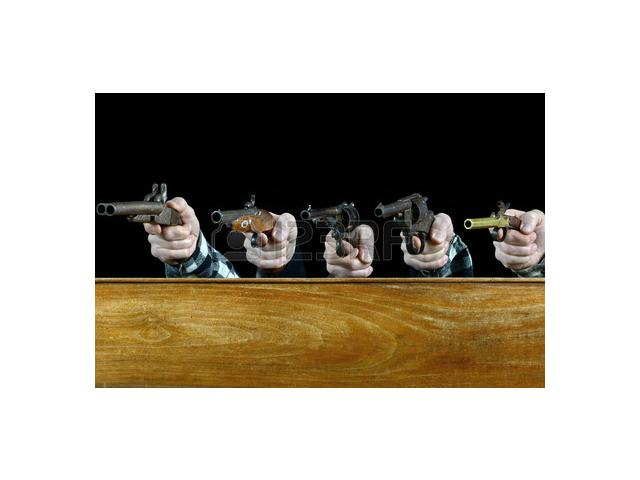pistol: (95, 183, 191, 269), (210, 196, 293, 268), (300, 200, 368, 273), (382, 193, 447, 260), (473, 206, 538, 258)
